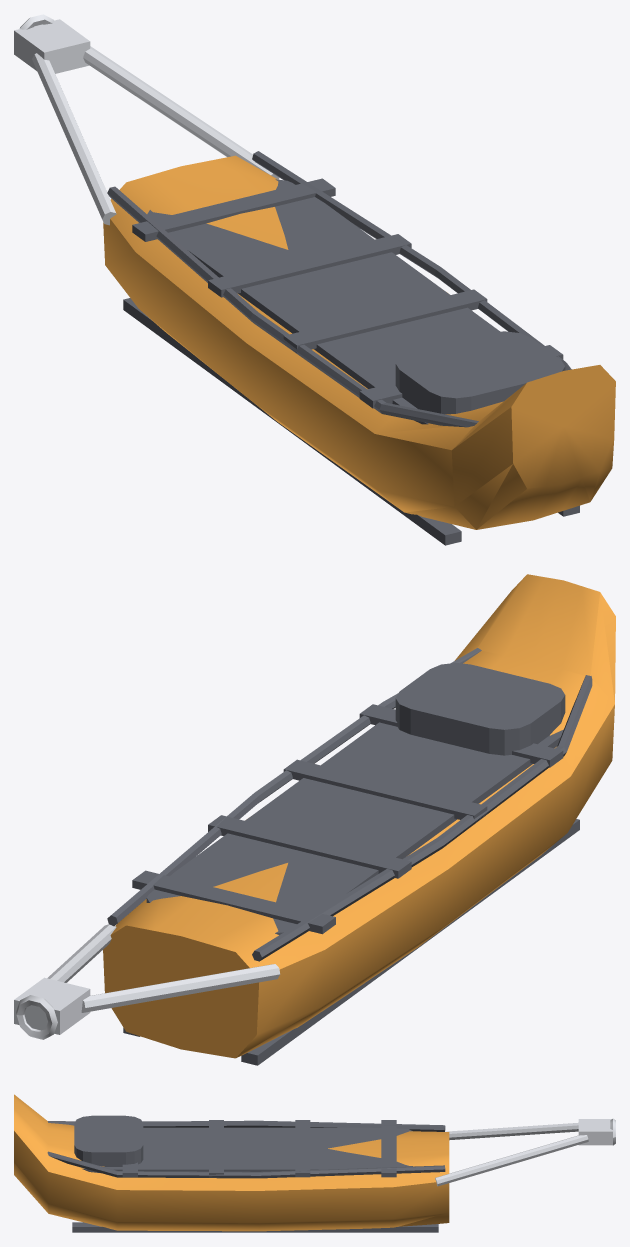
Rendered from backcountry-snowboarding-and-avalanche-safety-rescue-t-019d208b__18929.glb.
3 views of the same model, one above another, from view 1: azimuth 30°, elevation 25°; view 2: azimuth 150°, elevation 25°; view 3: azimuth 270°, elevation 25° (orthographic). The views are drawn at different scales.
Parts seen in each view (by area): view 1: rescue-toboggan; view 2: rescue-toboggan; view 3: rescue-toboggan.
Part boxes in pixels (left/top/right/bottom): rescue-toboggan: left=14, top=14, right=615, bottom=545; rescue-toboggan: left=14, top=574, right=615, bottom=1065; rescue-toboggan: left=14, top=1094, right=615, bottom=1232.
Size of the model in its own units: 0.617 by 0.57 by 2.79.
